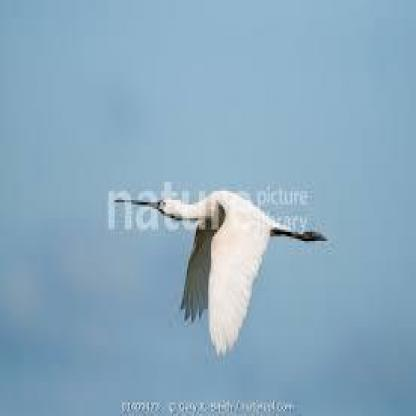bird: (103, 168, 364, 380)
